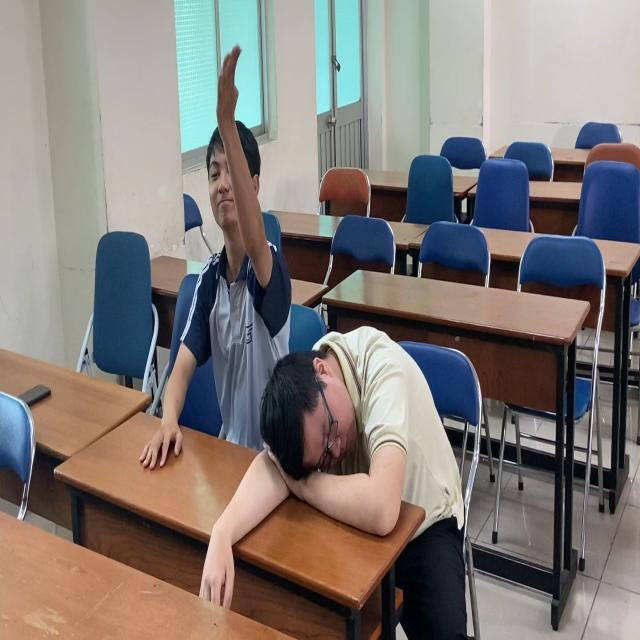raise_hand: (185, 39, 273, 442)
sleep: (256, 320, 468, 584)
